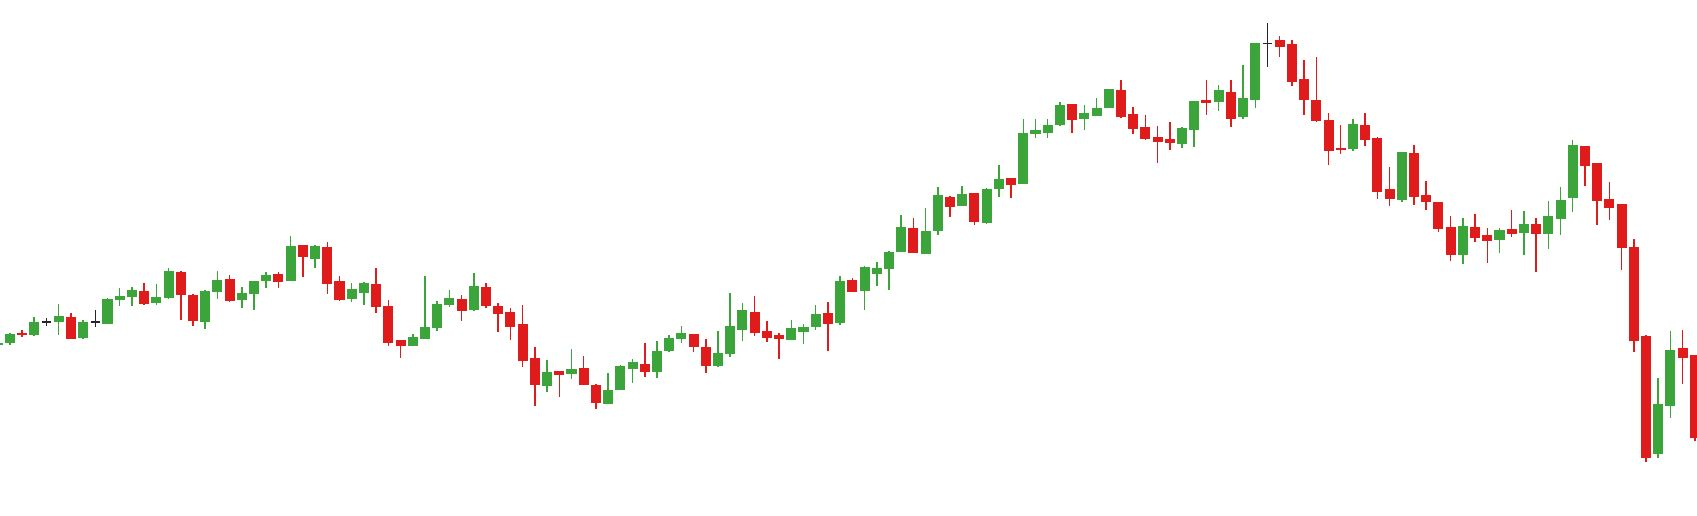sell: (1409, 141, 1592, 214)
